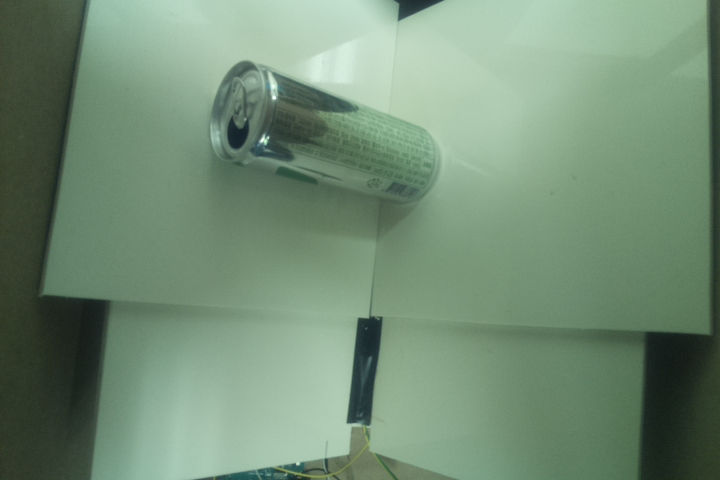can: (210, 58, 443, 203)
